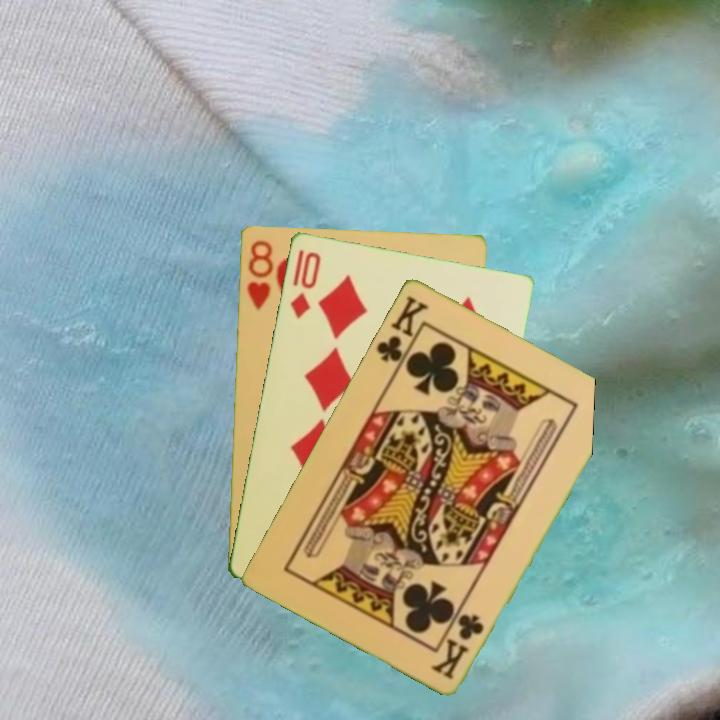10d: (286, 247, 323, 322)
8h: (243, 237, 276, 314)
Kc: (372, 291, 432, 374), (429, 609, 487, 682)
